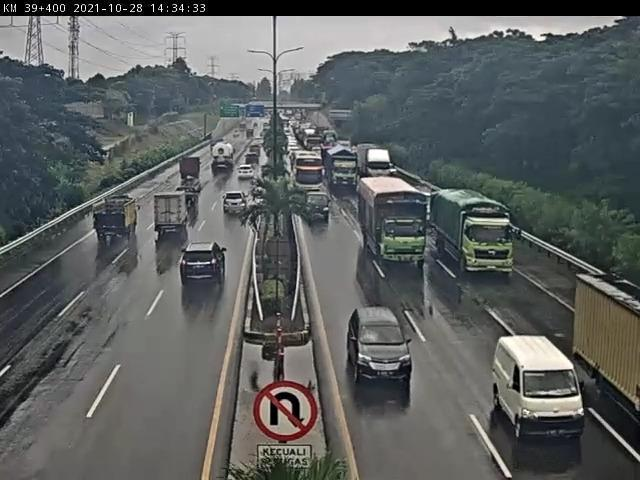bus: (294, 152, 329, 198)
car: (492, 335, 588, 443), (346, 310, 416, 388), (177, 244, 231, 287), (302, 190, 334, 222), (223, 192, 248, 219), (178, 181, 201, 210), (239, 164, 259, 184)
truck: (568, 273, 640, 416), (430, 191, 517, 276), (357, 176, 430, 267), (94, 194, 142, 245), (326, 143, 361, 195), (361, 142, 398, 184), (152, 193, 187, 235), (176, 157, 203, 185)
